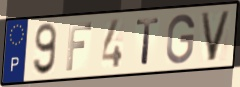4: (100, 18, 124, 71)
9: (32, 21, 59, 78)
F: (65, 21, 94, 73)
G: (164, 12, 197, 66)
T: (135, 16, 161, 67)
V: (198, 9, 233, 64)
